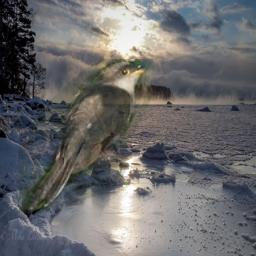Cuckoo: (19, 59, 153, 215)
